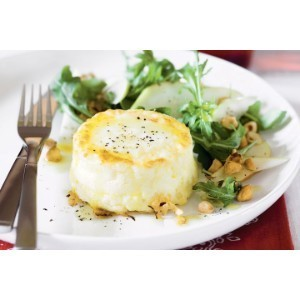cheese_brain food: (74, 108, 188, 211)
